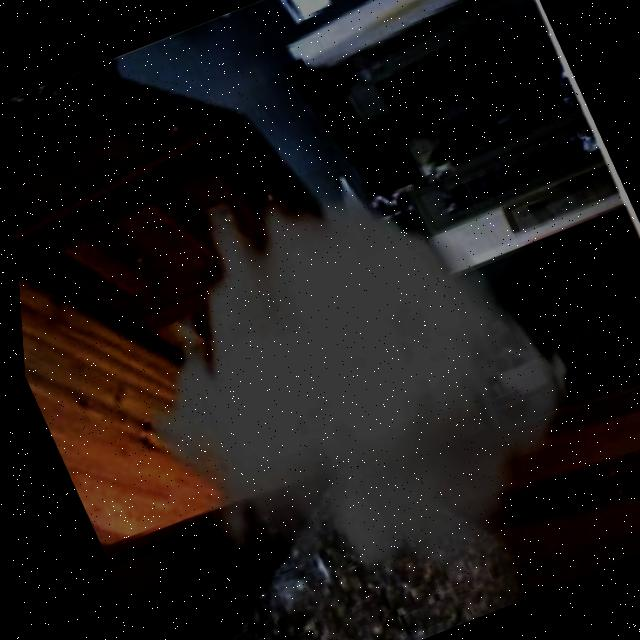Smoke: (61, 115, 640, 640)
